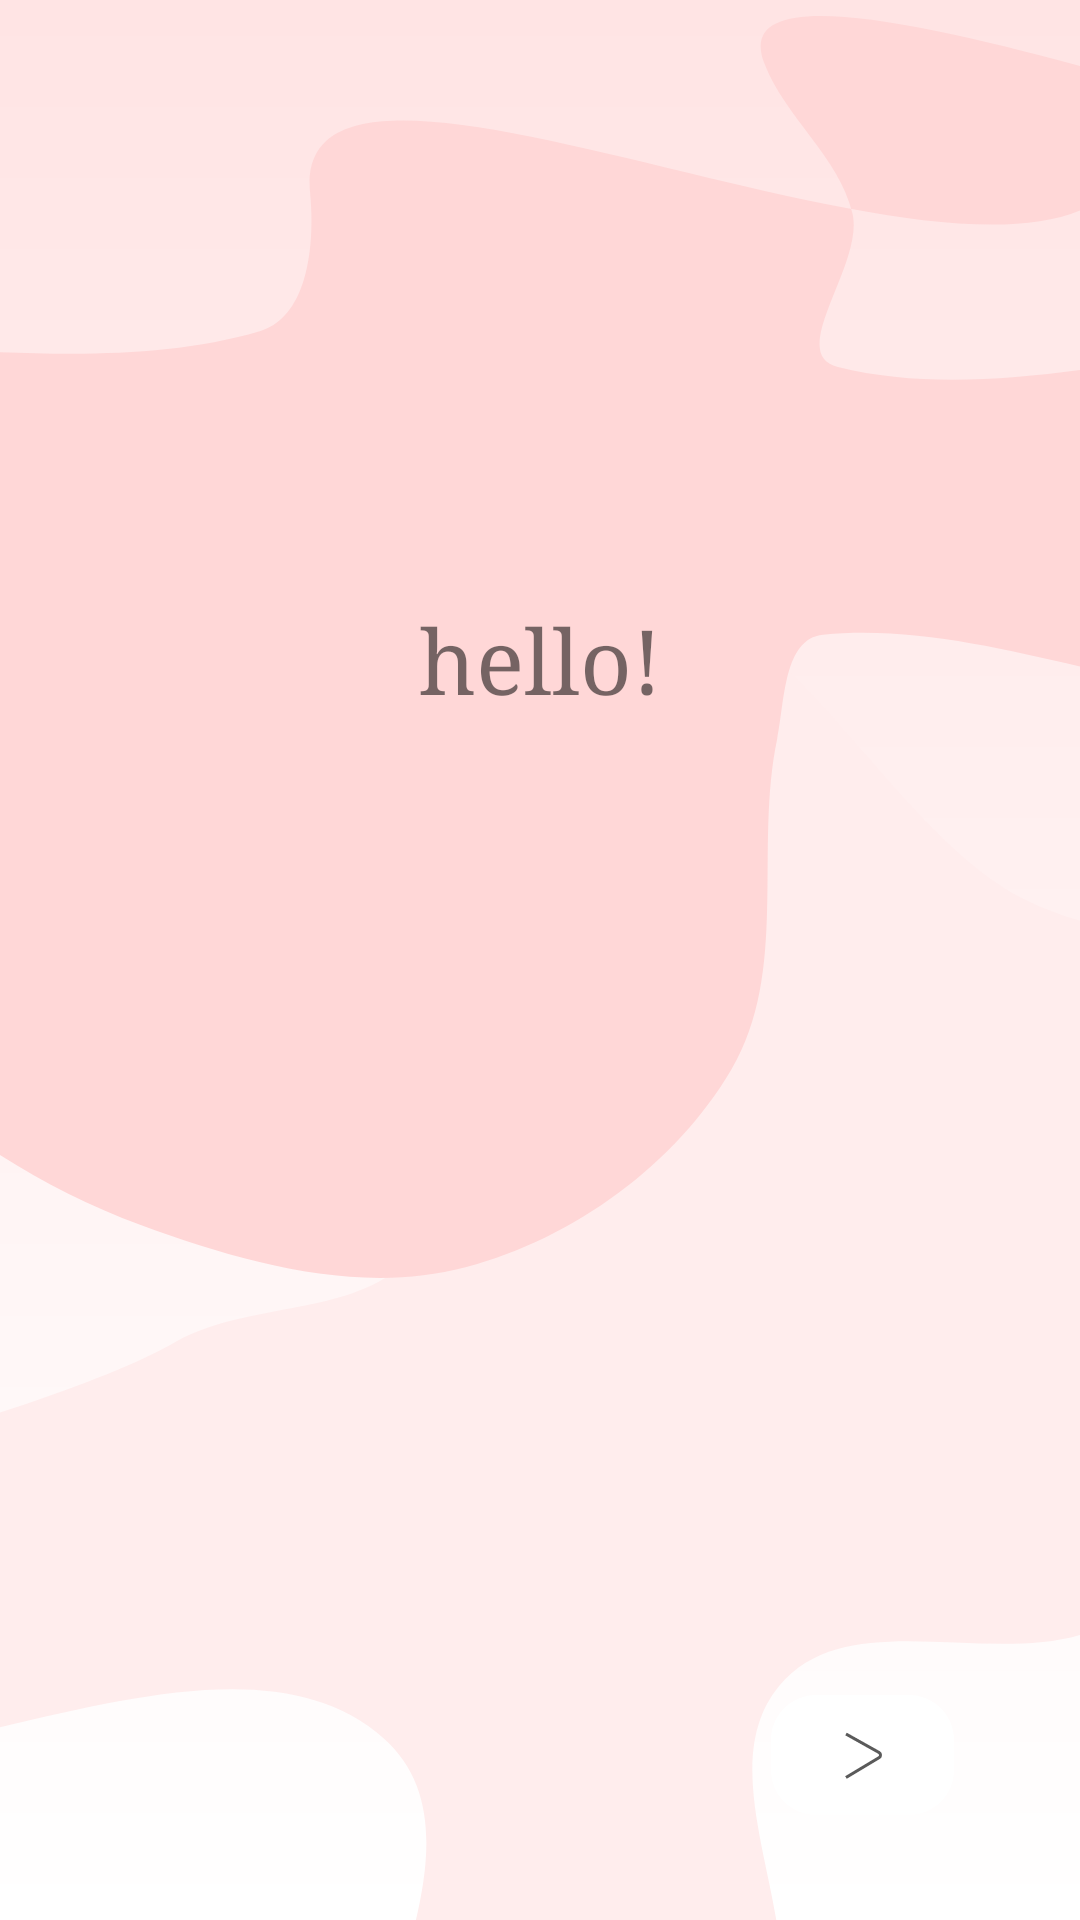

Icon click points for this 1080 x 1920 phone screenshot, format point (x, y):
next: point (901, 1750)
